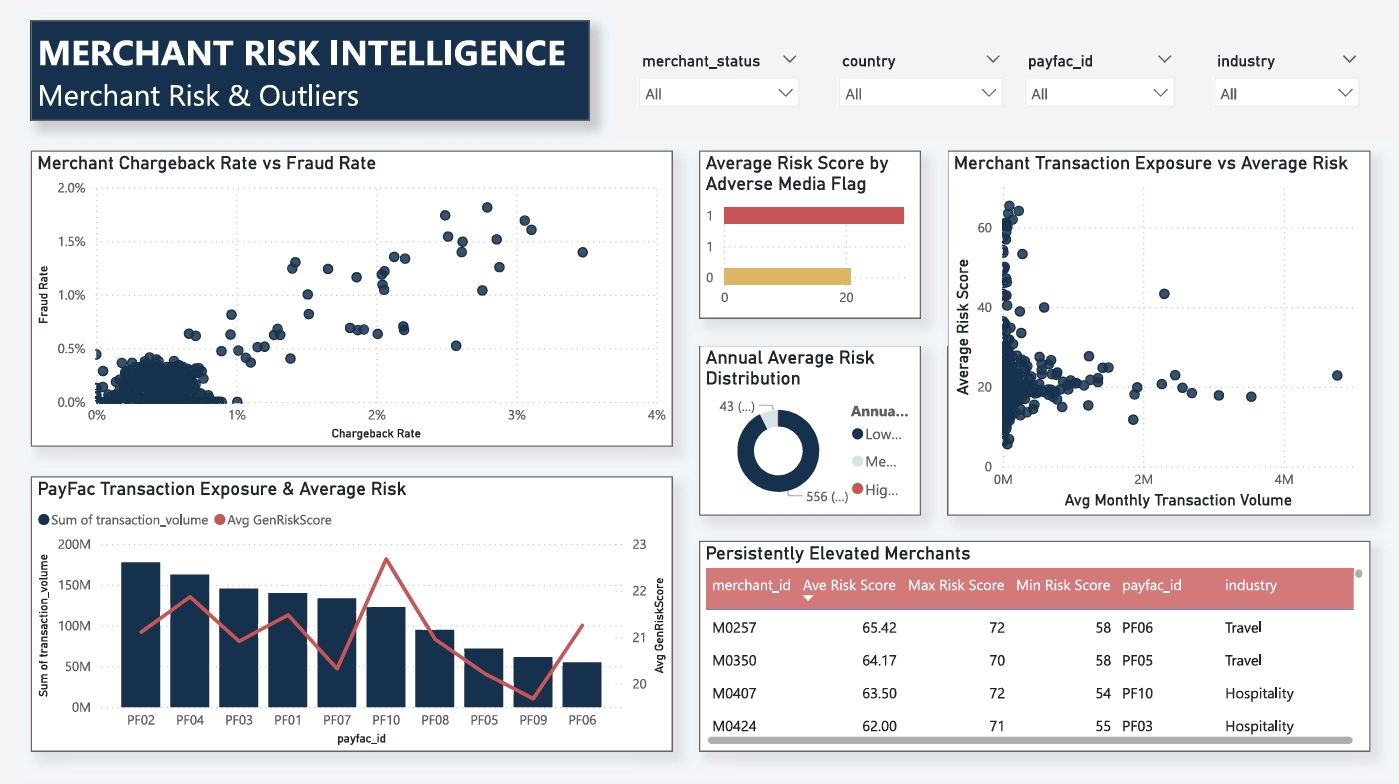

What the dashboard file says about the page in this screenshot:
{"tool":"powerbi","page":{"name":"Merchant Risk & Outliers","canvas":[1280,720],"ordinal":2},"visuals":[{"type":"textbox","box":[29.4,20.9,510.4,92],"z":0},{"type":"slicer","fields":{"Values":["merchant_risk_intelligence merchants.merchant_status"]},"box":[575.5,45.4,166.9,67.5],"z":1000},{"type":"slicer","fields":{"Values":["merchant_risk_intelligence merchants.country"]},"box":[758.3,45.4,169.3,67.5],"z":2000},{"type":"slicer","fields":{"Values":["merchant_risk_intelligence merchants.payfac_id"]},"box":[927.6,45.4,157.1,67.5],"z":3000},{"type":"slicer","fields":{"Values":["merchant_risk_intelligence merchants.industry"]},"box":[1100.6,45.4,153.4,67.5],"z":4000},{"type":"donutChart","title":"Annual Average Risk Distribution","fields":{"Category":["merchant_risk_intelligence Annual_Merchant_Risk.Annual_AvgRiskBand"],"Y":["CountNonNull(merchant_risk_intelligence Annual_Merchant_Risk.merchant_id)"]},"box":[640.5,317.8,202.5,155.8],"z":5000},{"type":"lineClusteredColumnComboChart","title":"PayFac Transaction Exposure & Average Risk","fields":{"Category":["merchant_risk_intelligence merchants.payfac_id"],"Y2":["merchant_risk_intelligence Annual_Merchant_Risk.Avg GenRiskScore"],"Y":["Sum(merchant_risk_intelligence monthly_transactions.transaction_volume)"]},"box":[29.4,438,586.5,251.5],"z":6000},{"type":"scatterChart","title":"Merchant Transaction Exposure vs Average Risk","fields":{"X":["merchant_risk_intelligence monthly_transactions.Avg Monthly Transaction Volume"],"Y":["merchant_risk_intelligence merchant_risk.Average Risk Score"],"Category":["merchant_risk_intelligence merchants.merchant_id"]},"box":[867.5,139.9,386.5,333.7],"z":7000},{"type":"scatterChart","title":"Merchant Chargeback Rate vs Fraud Rate","fields":{"X":["Merchant Signal Summary.Chargeback Rate"],"Y":["Merchant Signal Summary.Fraud Rate"],"Category":["merchant_risk_intelligence merchants.merchant_id"]},"box":[29.4,139.9,586.5,271.2],"z":8000},{"type":"tableEx","title":"Persistently Elevated Merchants","fields":{"Values":["merchant_risk_intelligence merchants.merchant_id","merchant_risk_intelligence merchant_risk.Average Risk Score","merchant_risk_intelligence merchant_risk.Max Risk Score","merchant_risk_intelligence merchant_risk.Min Risk Score","merchant_risk_intelligence merchants.payfac_id","merchant_risk_intelligence merchants.industry"]},"box":[640.5,496.9,613.5,192.6],"z":9000},{"type":"clusteredBarChart","title":"Average Risk Score by Adverse Media Flag","fields":{"Category":["merchant_risk_intelligence website_signals.adverse_media_flag"],"Y":["merchant_risk_intelligence merchant_risk.Average Risk Score"]},"box":[640.5,139.9,202.5,154.6],"z":10000}]}

Visuals, with their boxes in screenshot pixels (x1, y1, x2, y2), scaled from the page's 1280x720 canvas onto the 1399x784 screenshot:
textbox: locate(32, 23, 590, 123)
slicer - merchant_risk_intelligence merchants.merchant_status: locate(629, 49, 811, 123)
slicer - merchant_risk_intelligence merchants.country: locate(829, 49, 1014, 123)
slicer - merchant_risk_intelligence merchants.payfac_id: locate(1014, 49, 1186, 123)
slicer - merchant_risk_intelligence merchants.industry: locate(1203, 49, 1371, 123)
"Annual Average Risk Distribution" donutChart: locate(700, 346, 921, 516)
"PayFac Transaction Exposure & Average Risk" lineClusteredColumnComboChart: locate(32, 477, 673, 751)
"Merchant Transaction Exposure vs Average Risk" scatterChart: locate(948, 152, 1371, 516)
"Merchant Chargeback Rate vs Fraud Rate" scatterChart: locate(32, 152, 673, 448)
"Persistently Elevated Merchants" tableEx: locate(700, 541, 1371, 751)
"Average Risk Score by Adverse Media Flag" clusteredBarChart: locate(700, 152, 921, 321)
